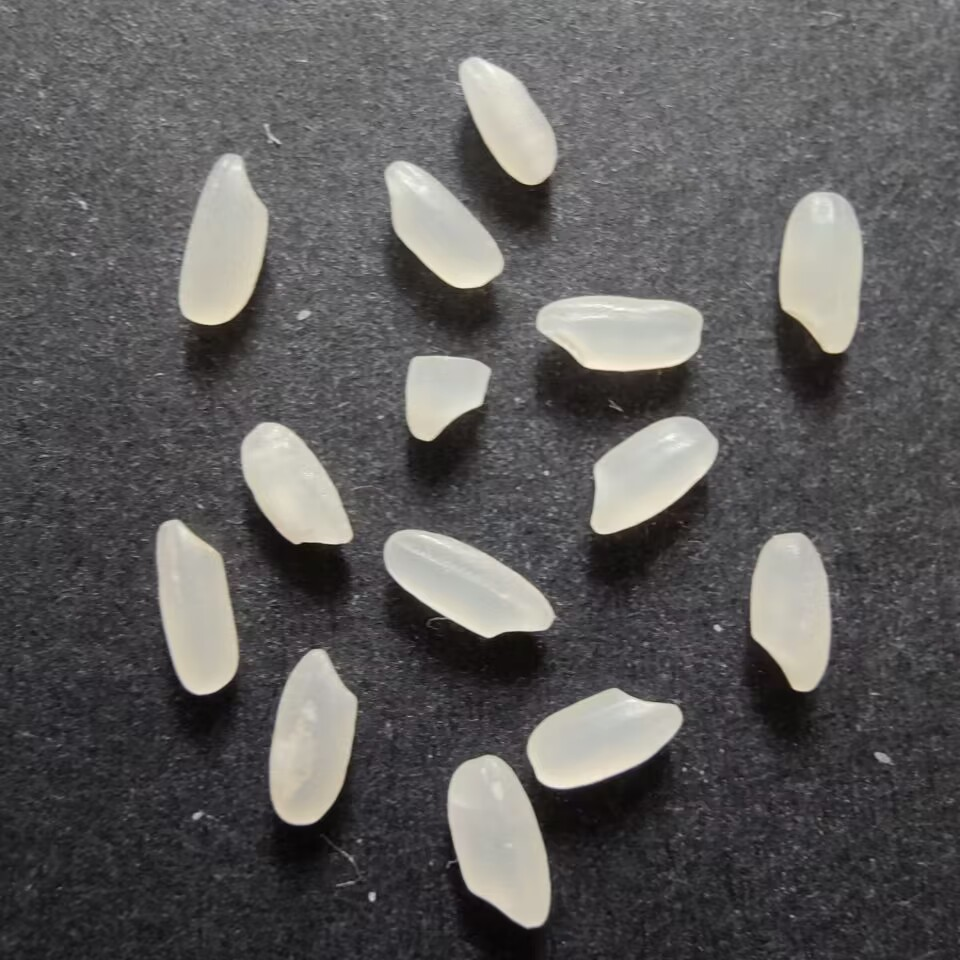broken: (401, 350, 494, 448)
rice: (440, 751, 554, 940), (379, 526, 561, 641), (150, 515, 248, 699), (262, 647, 360, 830), (176, 149, 275, 328), (376, 156, 505, 293), (581, 412, 720, 536), (524, 686, 688, 791), (774, 185, 869, 362), (239, 420, 357, 554), (454, 54, 567, 188), (747, 526, 836, 693), (532, 292, 704, 376)
